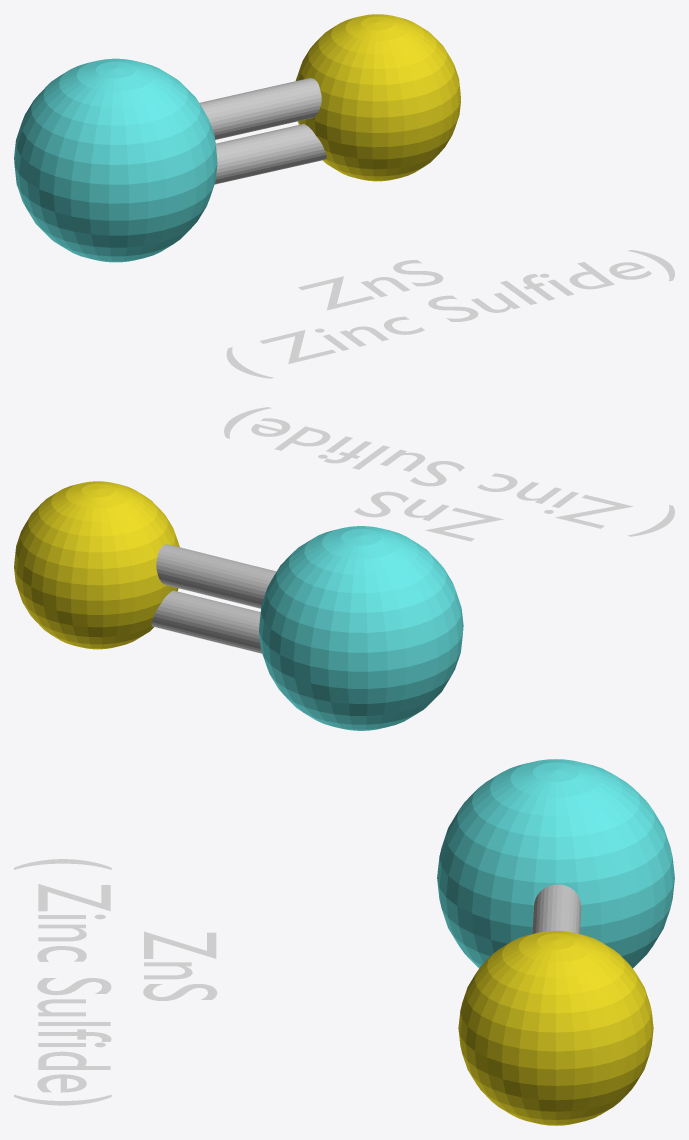
Rendered from Zinc Sulfide.fbx.
3 views of the same model, one above another, from view 1: azimuth 30°, elevation 25°; view 2: azimuth 150°, elevation 25°; view 3: azimuth 270°, elevation 25° (orthographic). The views are drawn at different scales.
Parts seen in each view (by area): view 1: Sphere, Sphere.002, Text, Cylinder, Cylinder.001; view 2: Sphere, Sphere.002, Text, Cylinder, Cylinder.001; view 3: Sphere, Sphere.002, Text, Cylinder.
Boxes of the visible parts, bbox=[...] form: Sphere: bbox=[14, 58, 217, 262]; Sphere.002: bbox=[295, 14, 460, 181]; Text: bbox=[226, 250, 674, 378]; Cylinder: bbox=[199, 78, 321, 139]; Cylinder.001: bbox=[214, 124, 326, 184]; Sphere: bbox=[259, 526, 463, 730]; Sphere.002: bbox=[14, 481, 179, 649]; Text: bbox=[224, 407, 674, 541]; Cylinder: bbox=[156, 544, 276, 608]; Cylinder.001: bbox=[151, 590, 261, 653]; Sphere: bbox=[437, 759, 674, 968]; Sphere.002: bbox=[458, 930, 653, 1125]; Text: bbox=[14, 859, 217, 1105]; Cylinder: bbox=[532, 884, 581, 933].
Size of the model in its own units: 551 by 225 by 625.
